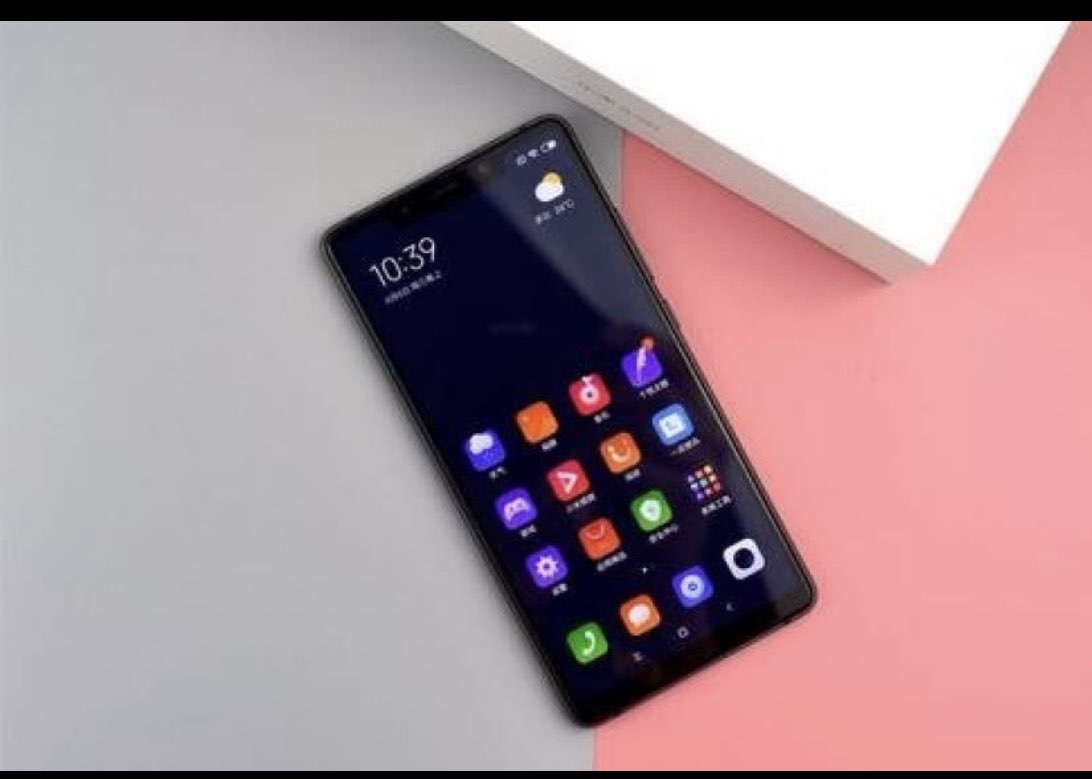mobil: (316, 100, 823, 731)
